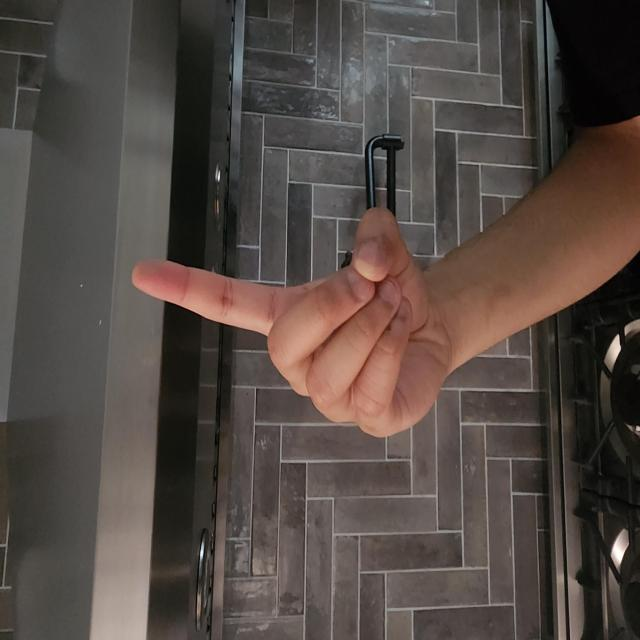D: (146, 164, 328, 602)
